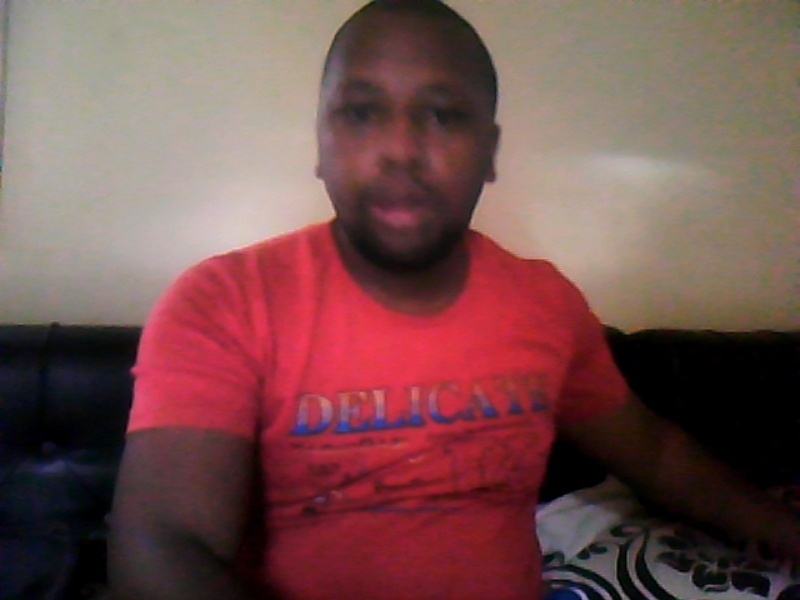TsisyArotava: (297, 11, 532, 286)
